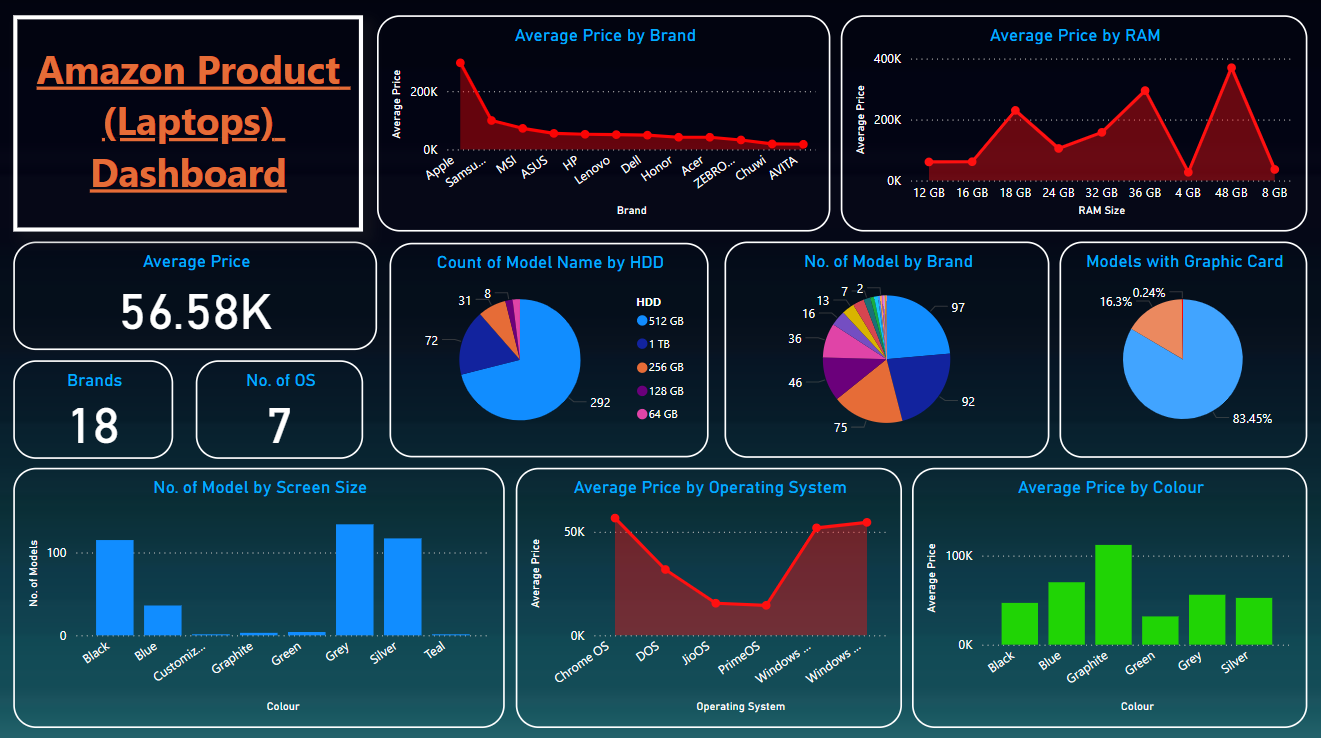

The dashboard page shown, as its layout file describes it:
{"tool":"powerbi","page":{"name":"Page 1","canvas":[1280,720],"ordinal":0},"visuals":[{"type":"card","title":"Average Price","fields":{"Values":["mobile.Average Price"]},"box":[15.7,234,351.1,105],"z":0},{"type":"lineChart","fields":{"Y":["mobile.Average Price"],"Category":["mobile.Operating System","mobile.CPU Model"]},"box":[500.7,452.4,372.8,250.9],"z":1000},{"type":"pieChart","title":"Models with Graphic Card","fields":{"Y":["CountNonNull(mobile.Model Name)"],"Category":["mobile.Graphics Card Description"]},"box":[1025.5,234,238.9,208.7],"z":2000},{"type":"clusteredColumnChart","fields":{"Y":["mobile.Average Price"],"Category":["mobile.Colour","mobile.Screen Size"]},"box":[883.1,452.4,381.2,250.9],"z":3000},{"type":"pieChart","fields":{"Y":["CountNonNull(mobile.Model Name)"],"Category":["mobile.RAM Memory Installed Size Hierarchy.HDD","mobile.RAM Memory Installed Size Hierarchy.RAM Memory Installed Size"]},"box":[378.8,235.3,307.6,207.5],"z":4000},{"type":"pieChart","title":"No. of Model by Brand","fields":{"Category":["mobile.Brand"],"Y":["CountNonNull(mobile.Model Name)"]},"box":[702.1,234,313.7,208.7],"z":5000},{"type":"lineChart","fields":{"Category":["mobile.RAM Memory Installed Size","mobile.HDD"],"Y":["mobile.Average Price"]},"box":[814.3,15.7,450,208.7],"z":6000},{"type":"columnChart","title":"No. of Model by Screen Size","fields":{"Category":["mobile.Colour","mobile.Screen Size"],"Y":["CountNonNull(mobile.Model Name)"]},"box":[15.7,452.4,474.1,250.9],"z":7000},{"type":"textbox","box":[15.7,15.7,337.8,208.7],"z":8000},{"type":"lineChart","fields":{"Category":["mobile.Brand"],"Y":["mobile.Average Price"]},"box":[366.8,15.7,437.9,208.7],"z":9000},{"type":"card","title":"Brands","fields":{"Values":["Count(mobile.Brand)"]},"box":[15.7,348.7,154.4,95.3],"z":10000},{"type":"card","title":"No. of OS","fields":{"Values":["Count(mobile.Operating System)"]},"box":[191.8,348.7,161.7,95.3],"z":11000}]}

Visuals, with their boxes in screenshot pixels (x1, y1, x2, y2), scaled from the page's 1280x720 canvas onto the 1321x738 screenshot:
"Average Price" card: bbox=[16, 240, 379, 347]
lineChart - mobile.Average Price x mobile.Operating System: bbox=[517, 464, 901, 721]
"Models with Graphic Card" pieChart: bbox=[1058, 240, 1305, 454]
clusteredColumnChart - mobile.Average Price x mobile.Colour: bbox=[911, 464, 1305, 721]
pieChart - CountNonNull(mobile.Model Name) x mobile.RAM Memory Installed Size Hierarchy.HDD: bbox=[391, 241, 708, 454]
"No. of Model by Brand" pieChart: bbox=[725, 240, 1048, 454]
lineChart - mobile.RAM Memory Installed Size x mobile.HDD: bbox=[840, 16, 1305, 230]
"No. of Model by Screen Size" columnChart: bbox=[16, 464, 505, 721]
textbox: bbox=[16, 16, 365, 230]
lineChart - mobile.Brand x mobile.Average Price: bbox=[379, 16, 830, 230]
"Brands" card: bbox=[16, 357, 176, 455]
"No. of OS" card: bbox=[198, 357, 365, 455]
